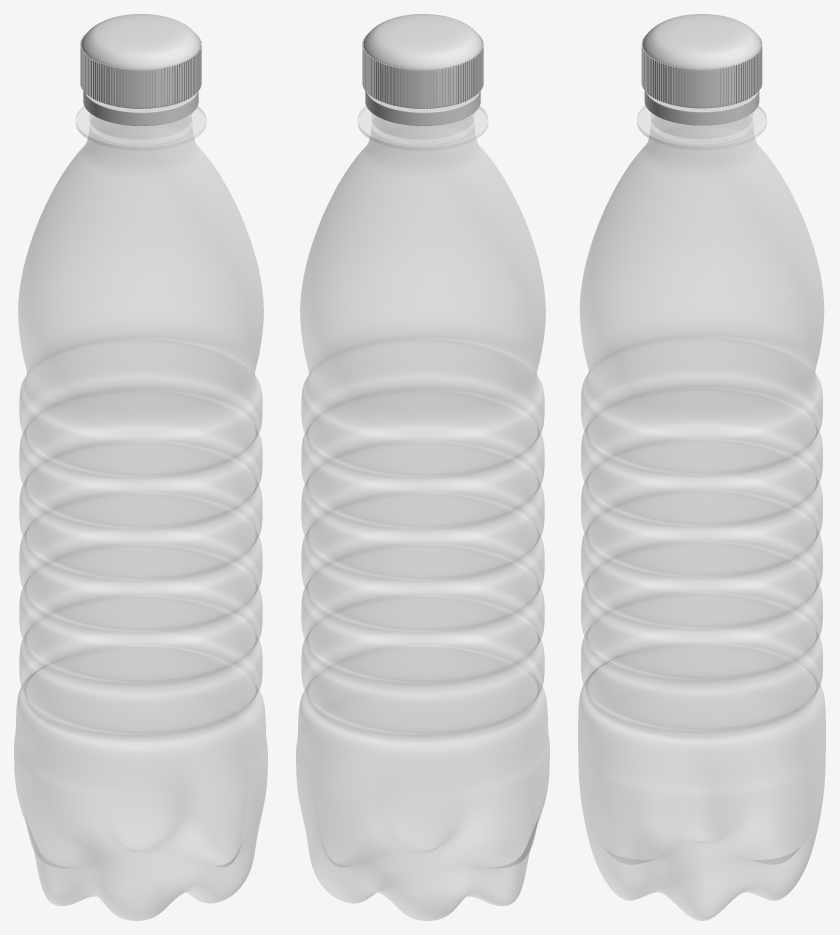
The model's file is plastic_bottle.glb.
3 views of the same model, side by side, from view 1: azimuth 30°, elevation 25°; view 2: azimuth 150°, elevation 25°; view 3: azimuth 270°, elevation 25° (orthographic).
Visible parts, largest first — view 1: world; view 2: world; view 3: world.
Boxes of the visible parts, x1=… form: world: x1=14, y1=14, x2=267, y2=920; world: x1=296, y1=14, x2=549, y2=920; world: x1=578, y1=14, x2=825, y2=920.
Size of the model in its own units: 1.32 by 4.97 by 1.32.
2 materials, 1 textured.
